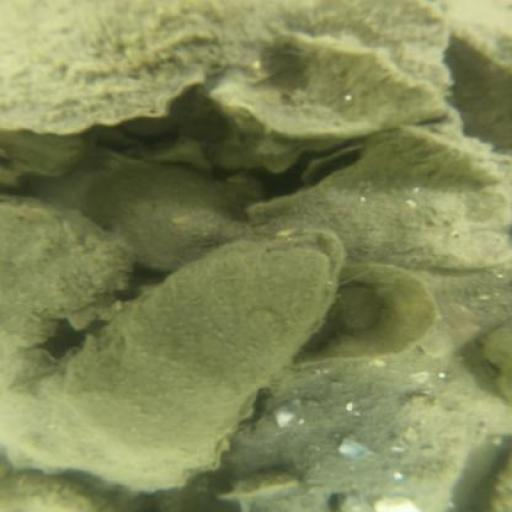Oyster-Closed: (1, 1, 464, 136), (229, 377, 493, 512), (251, 133, 506, 268), (5, 193, 132, 349), (83, 161, 240, 264), (359, 123, 507, 187)
Oyster-Open: (63, 233, 353, 465)
